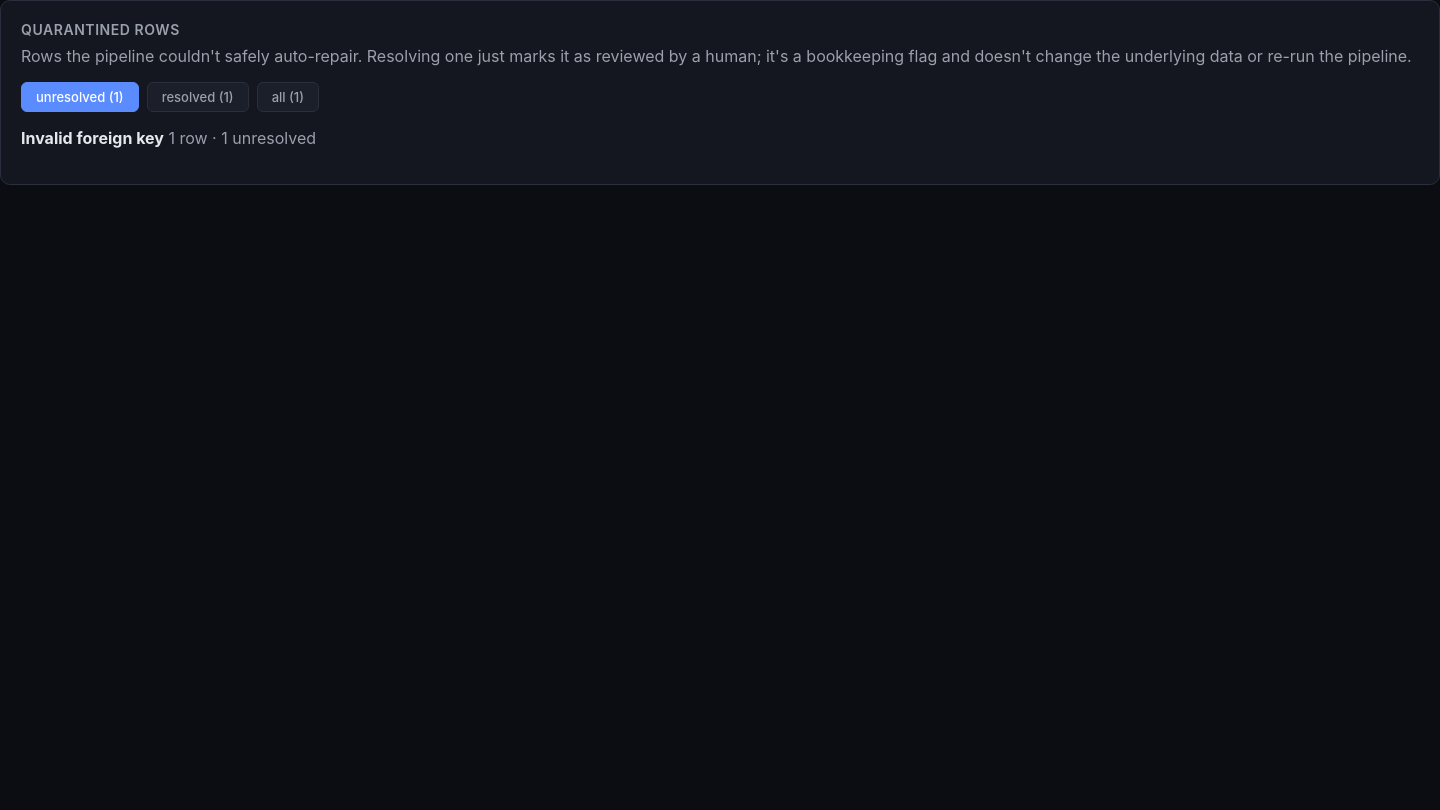
Quarantine resolve feedback › shows an error toast instead of failing silently when resolving fails
The image size is (1440, 810).
Click the button "Invalid foreign key 1 row · 1 unresolved".
click(168, 138)  # box [21,128,316,148]
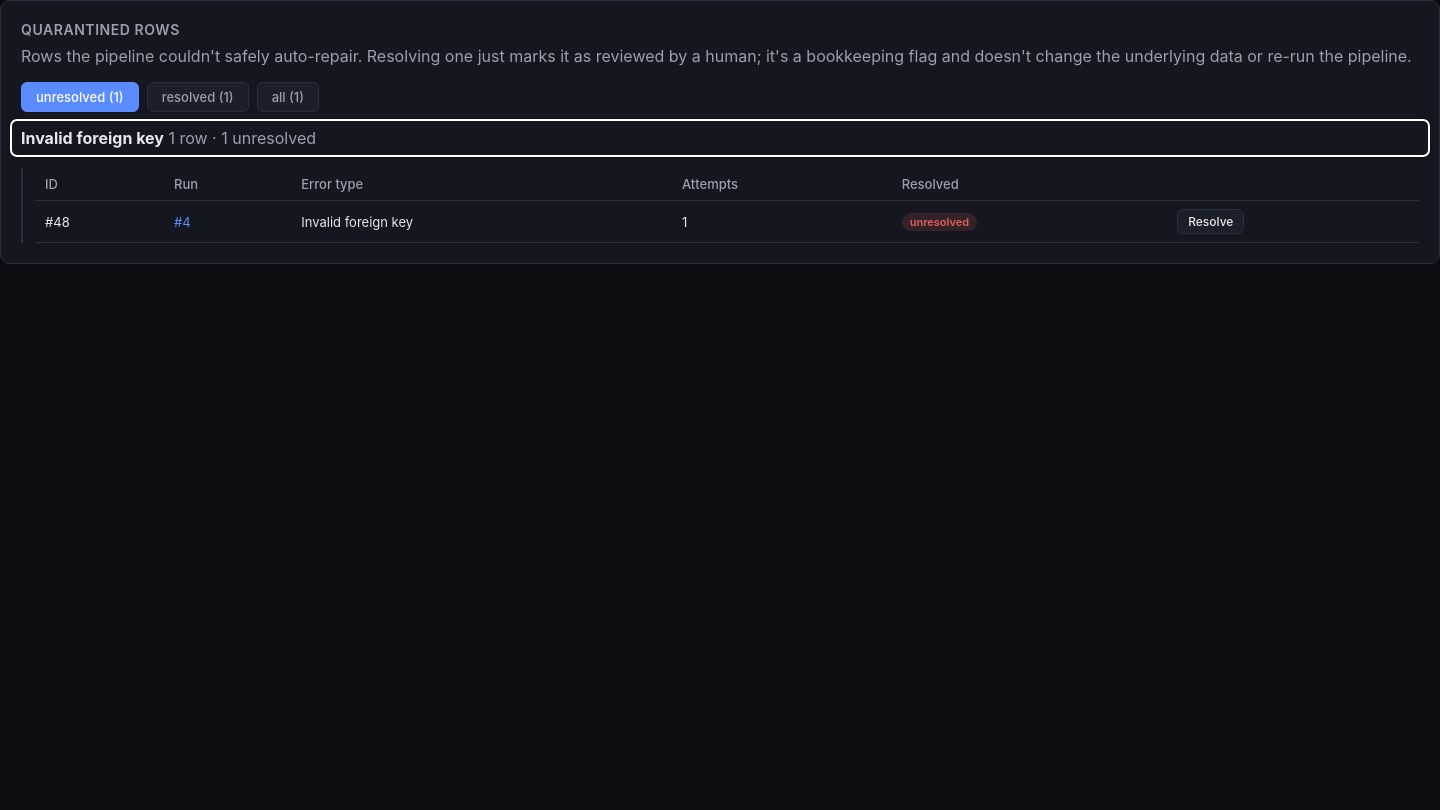
Click the button "Resolve".
click(1211, 222)  # box [1177,209,1244,234]
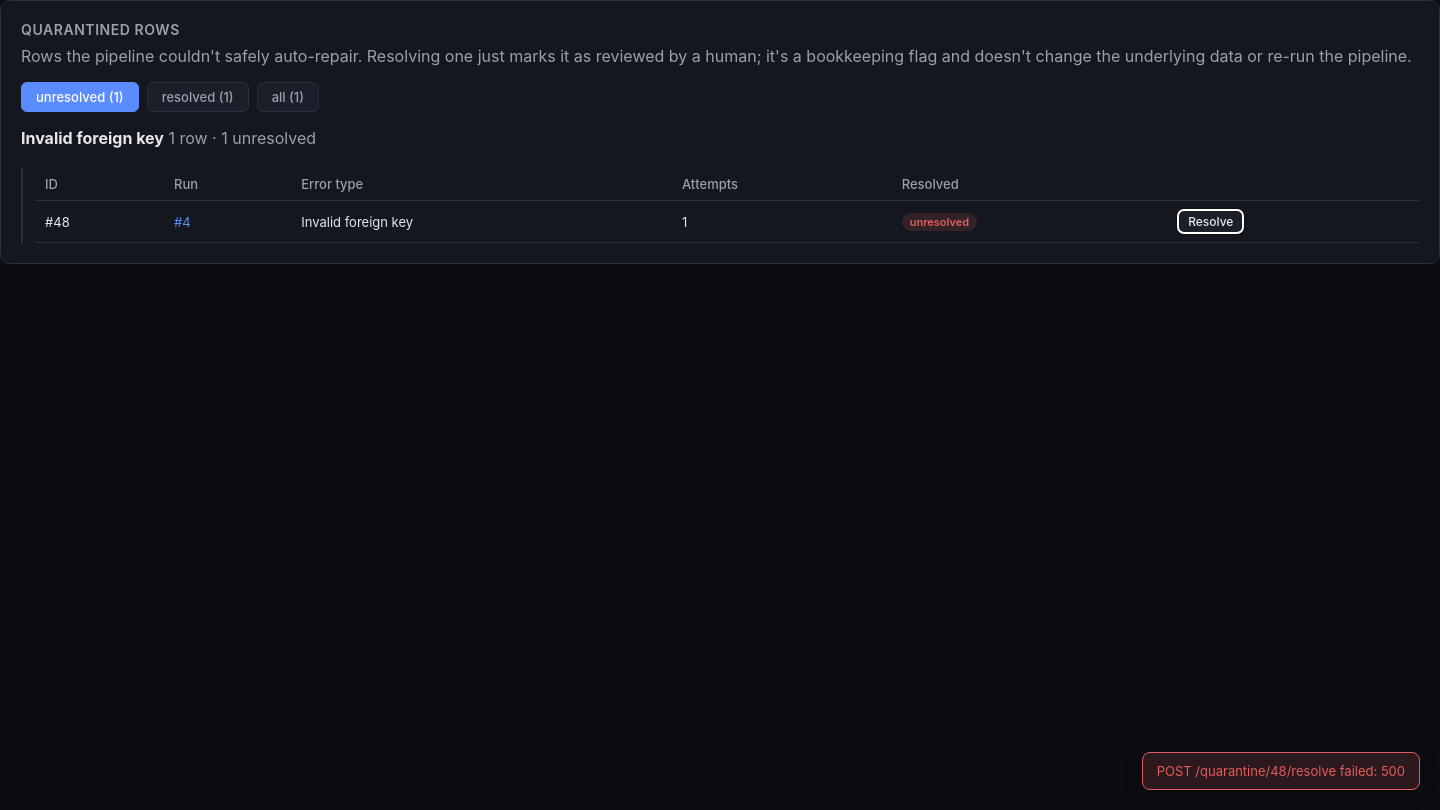
Check: the text "POST /quarantine/48/resolve failed: 500" is shown, box [1142,752,1420,790]
